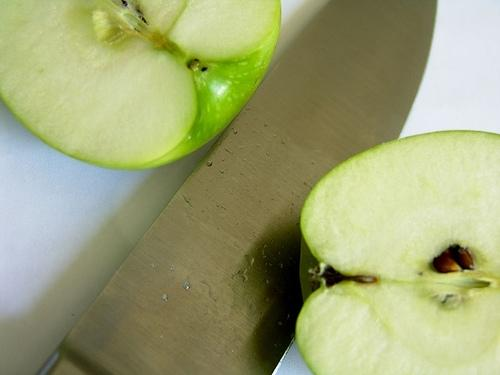apple: (294, 132, 499, 374), (0, 0, 282, 170)
